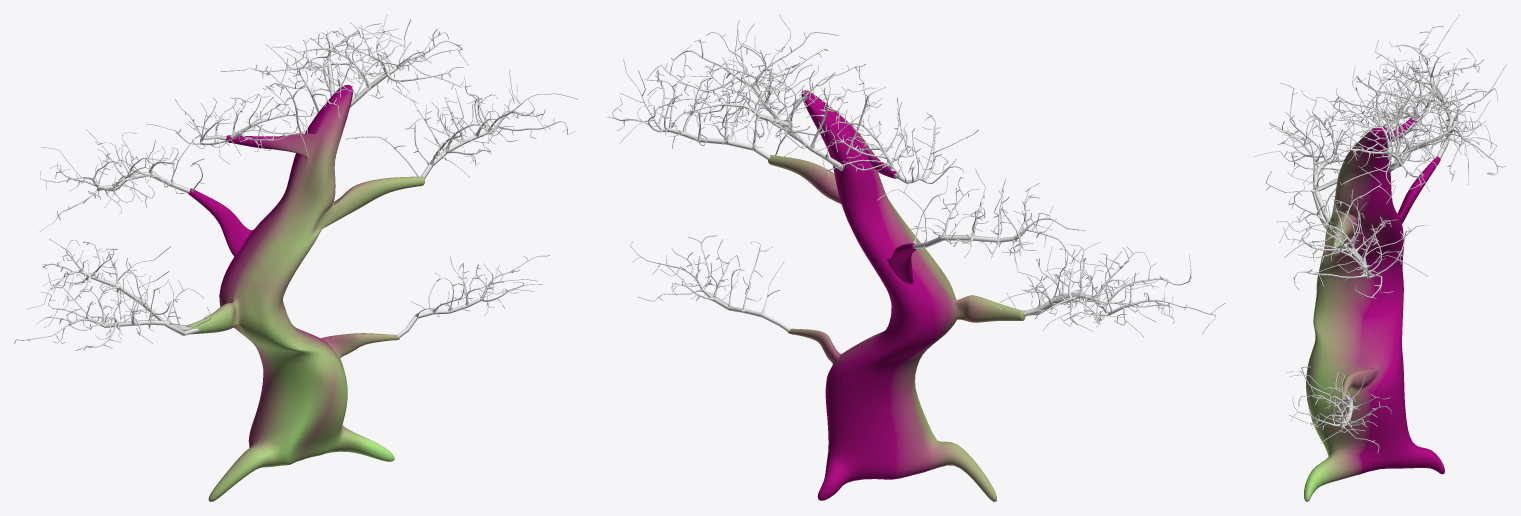
The model's file is core-v02.glb.
The picture shows the model from 3 angles, left to right: view 1: azimuth 30°, elevation 25°; view 2: azimuth 150°, elevation 25°; view 3: azimuth 270°, elevation 25°; orthographic projection. The views are drawn at different scales.
Parts seen in each view (by area): view 1: Continuous aged trunk and primary branches, Terminal twig hierarchy; view 2: Continuous aged trunk and primary branches, Terminal twig hierarchy; view 3: Continuous aged trunk and primary branches, Terminal twig hierarchy.
Boxes of the visible parts, x1,y1,x2,y2 form: Continuous aged trunk and primary branches: (186, 84, 424, 501); Terminal twig hierarchy: (14, 14, 578, 350); Continuous aged trunk and primary branches: (768, 90, 1025, 501); Terminal twig hierarchy: (607, 14, 1225, 337); Continuous aged trunk and primary branches: (1304, 114, 1444, 501); Terminal twig hierarchy: (1254, 14, 1506, 453).
Size of the model in its own units: 2.71 by 1.92 by 1.01.
